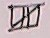kok: (1, 1, 50, 36)
